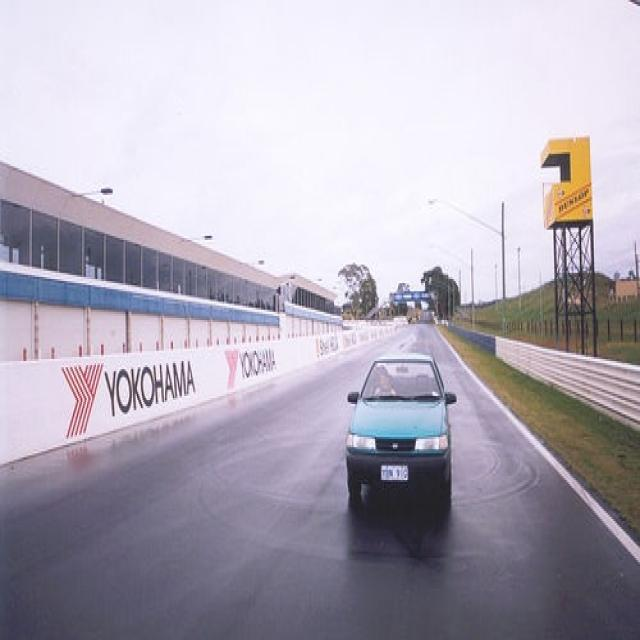car: (344, 351, 461, 515)
